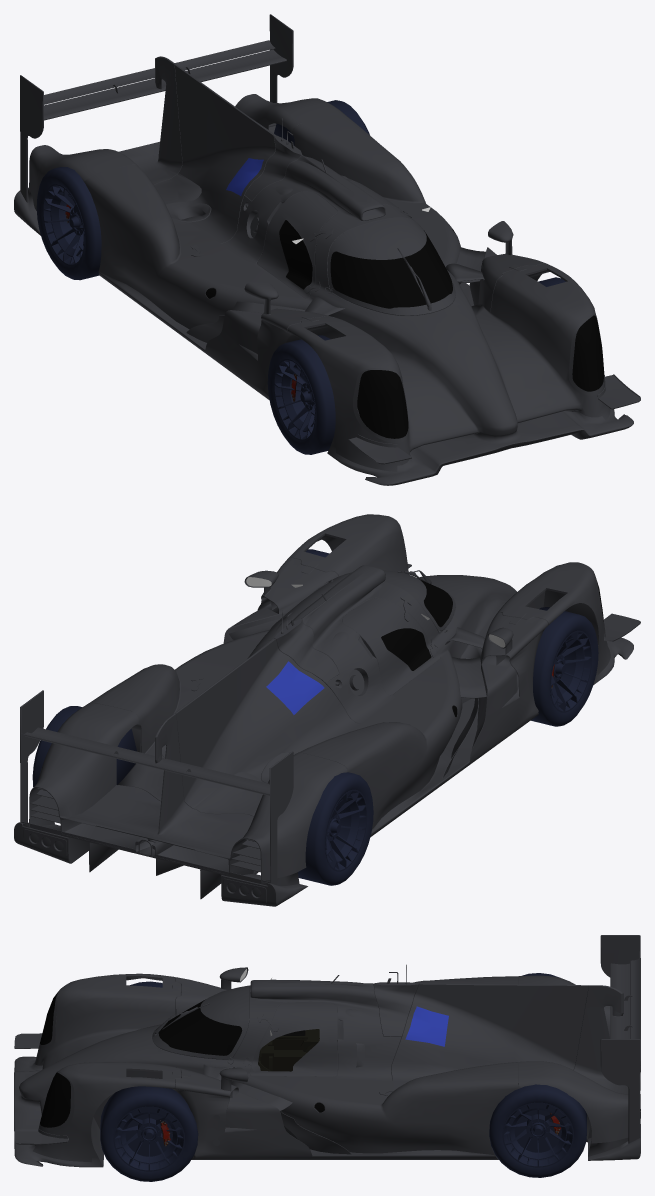
Rendered from ToyotaTS40.fbx.
3 views of the same model, one above another, from view 1: azimuth 30°, elevation 25°; view 2: azimuth 150°, elevation 25°; view 3: azimuth 270°, elevation 25° (orthographic). The views are drawn at different scales.
Parts seen in each view (by area): view 1: TS40_Body, TS40_Glasses, Wheel_Front_Right, Wheel_Rear_Right, TS40_Headlight_Glass, TS40_Decals; view 2: TS40_Body, Wheel_Front_Right, Wheel_Rear_Right, TS40_Glasses, TS40_Decals, Wheel_Rear_Left; view 3: TS40_Body, Wheel_Front_Left, Wheel_Rear_Left, TS40_Glasses, TS40_Headlight_Glass, TS40_Decals, TS40_inteiror_02, TS40_interior.
Part boxes in pixels (x1,y1,x2,y2): TS40_Body: [14, 14, 640, 485]; TS40_Glasses: [205, 220, 455, 308]; Wheel_Front_Right: [267, 335, 335, 454]; Wheel_Rear_Right: [36, 167, 101, 280]; TS40_Headlight_Glass: [357, 315, 603, 438]; TS40_Decals: [226, 158, 263, 195]; TS40_Body: [14, 514, 640, 906]; Wheel_Front_Right: [531, 607, 598, 726]; Wheel_Rear_Right: [298, 772, 373, 885]; TS40_Glasses: [381, 579, 457, 717]; TS40_Decals: [266, 661, 324, 714]; Wheel_Rear_Left: [32, 706, 136, 787]; TS40_Body: [14, 935, 640, 1167]; Wheel_Front_Left: [100, 1086, 198, 1181]; Wheel_Rear_Left: [489, 1084, 586, 1177]; TS40_Glasses: [158, 999, 324, 1112]; TS40_Headlight_Glass: [40, 992, 70, 1127]; TS40_Decals: [405, 1006, 448, 1046]; TS40_inteiror_02: [258, 1036, 318, 1071]; TS40_interior: [219, 1029, 319, 1071].
Size of the model in its own units: 2.53 by 1.58 by 5.54.
